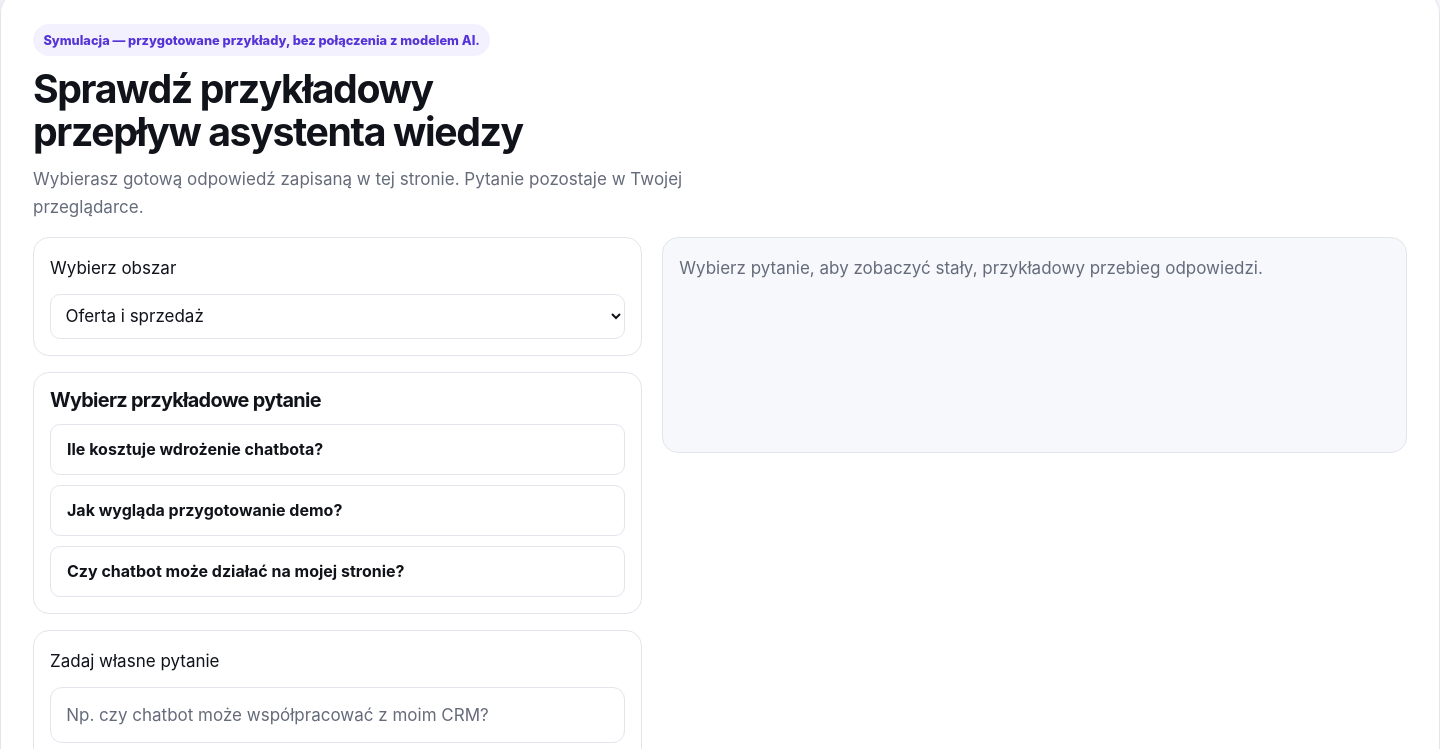
Scenario: KnowledgeDemoComponent › shows handoff for the dedicated handoff scenario
Select "Obsługa i przekazanie sprawy" in the dropdown with id "demo-category" at [338, 316], box [50,294,625,339]
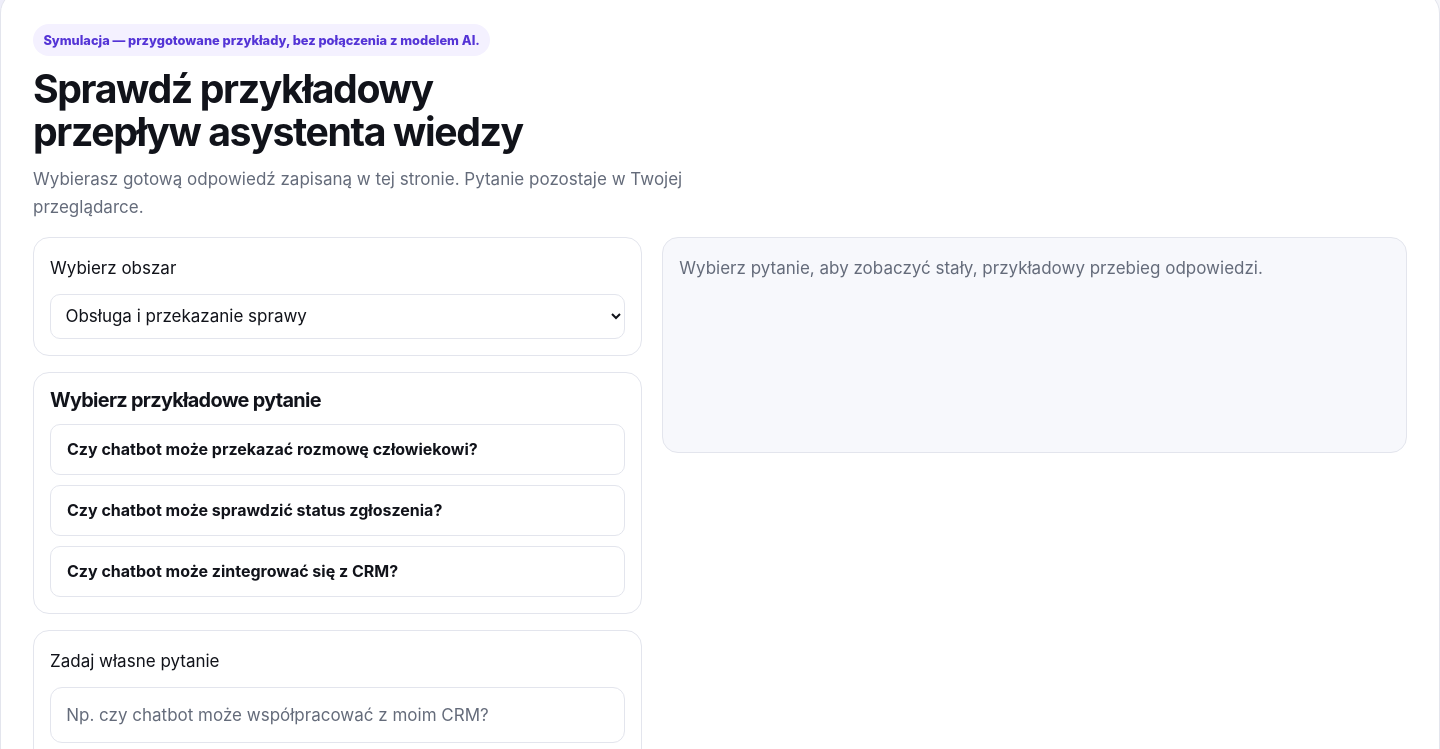
Click the button "Czy chatbot może przekazać rozmowę człowiekowi?" at [338, 449], box [50,424,625,474]
Wait 250 ms
(page scrolled)
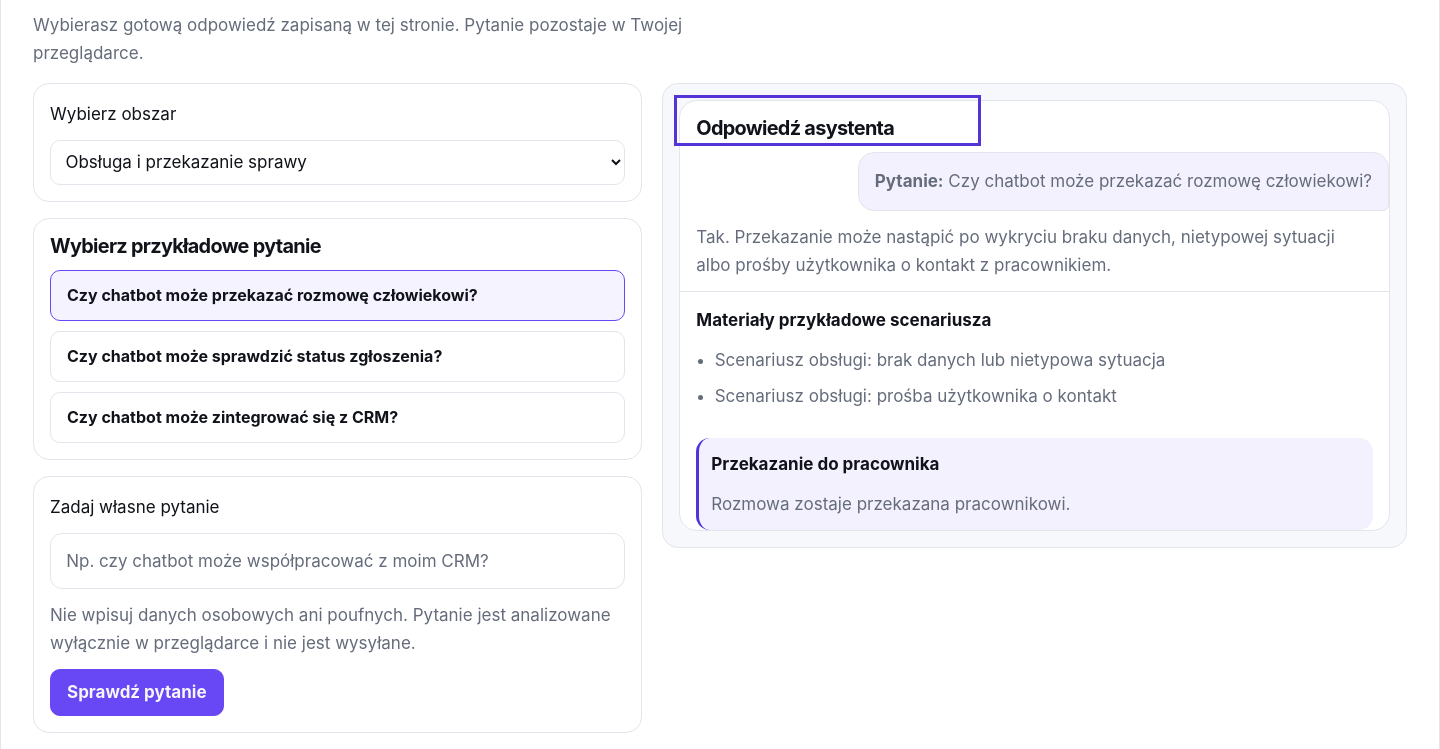
expect the element with class "answer-card" shows "Rozmowa zostaje przekazana pracownikowi.": met, box [711,494,1070,514]
expect the element with class "handoff" shows "Przekazanie do pracownika": met, box [711,454,940,474]
